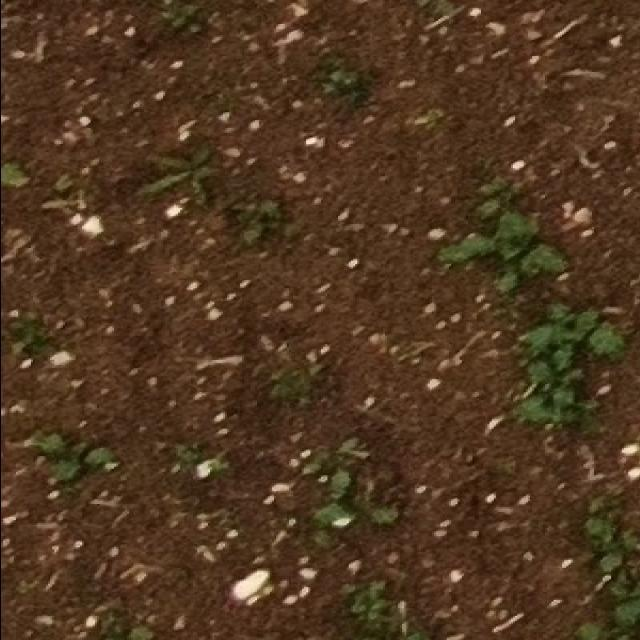cirse: (134, 136, 217, 197), (133, 152, 216, 212), (141, 140, 226, 197)
